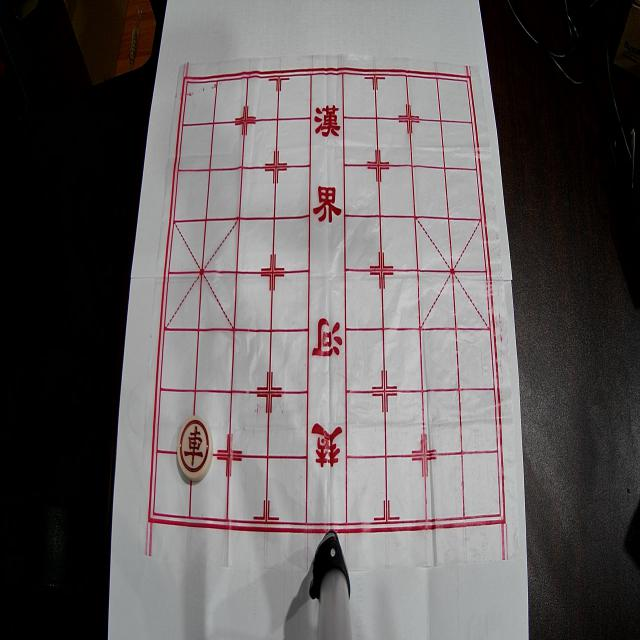red-chariot: (177, 416, 213, 482)
